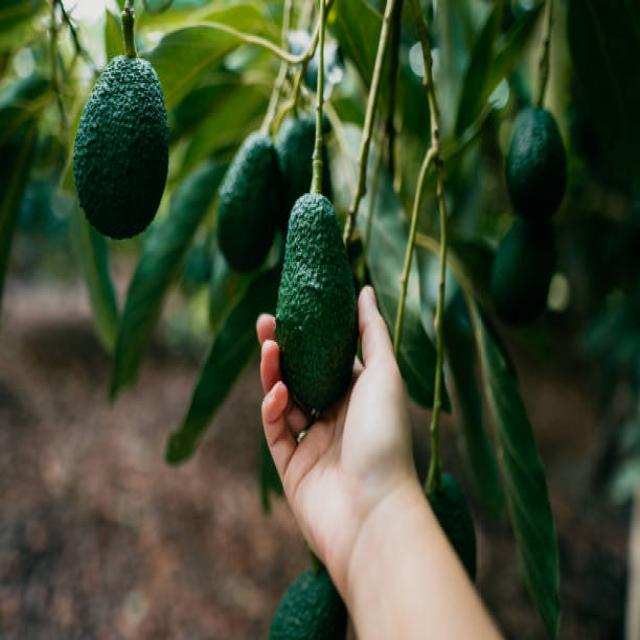Avocado: (265, 180, 359, 434), (58, 44, 174, 241), (205, 110, 275, 272), (505, 77, 571, 244), (281, 92, 334, 201)
